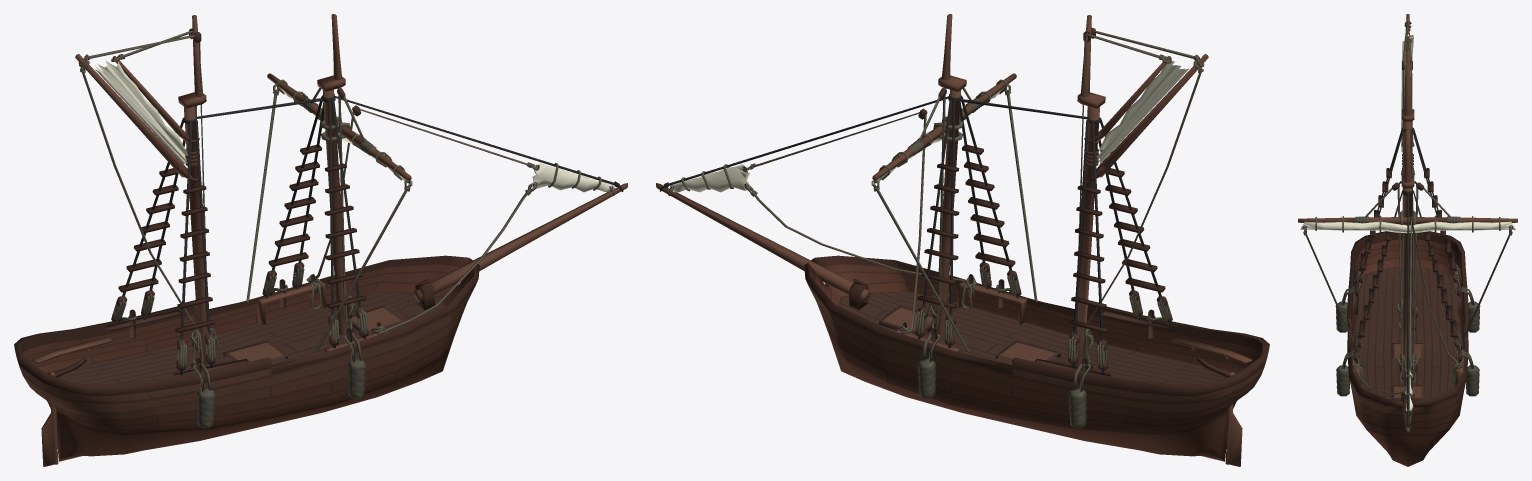
The model's file is Boat.fbx.
3 renders of one model, left to right at view 1: azimuth 30°, elevation 25°; view 2: azimuth 150°, elevation 25°; view 3: azimuth 270°, elevation 25°, orthographic. The views are drawn at different scales.
Parts seen in each view (by area): view 1: Cube.288; view 2: Cube.288; view 3: Cube.288.
Part boxes in pixels (x1,y1,x2,y2): Cube.288: (14,14,627,466); Cube.288: (656,14,1269,466); Cube.288: (1298,14,1517,466).
Bounding box in the file's own units: 1432 × 945 × 580.
